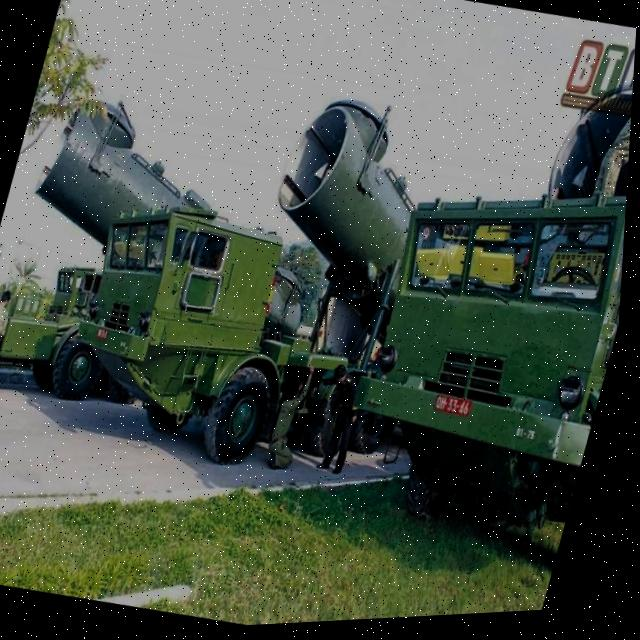car: (311, 33, 636, 552), (40, 182, 432, 517), (0, 228, 141, 414)
plate: (426, 383, 486, 428), (83, 316, 118, 351)
